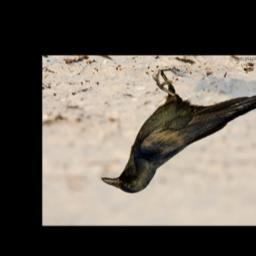Crow: (99, 70, 256, 195)
